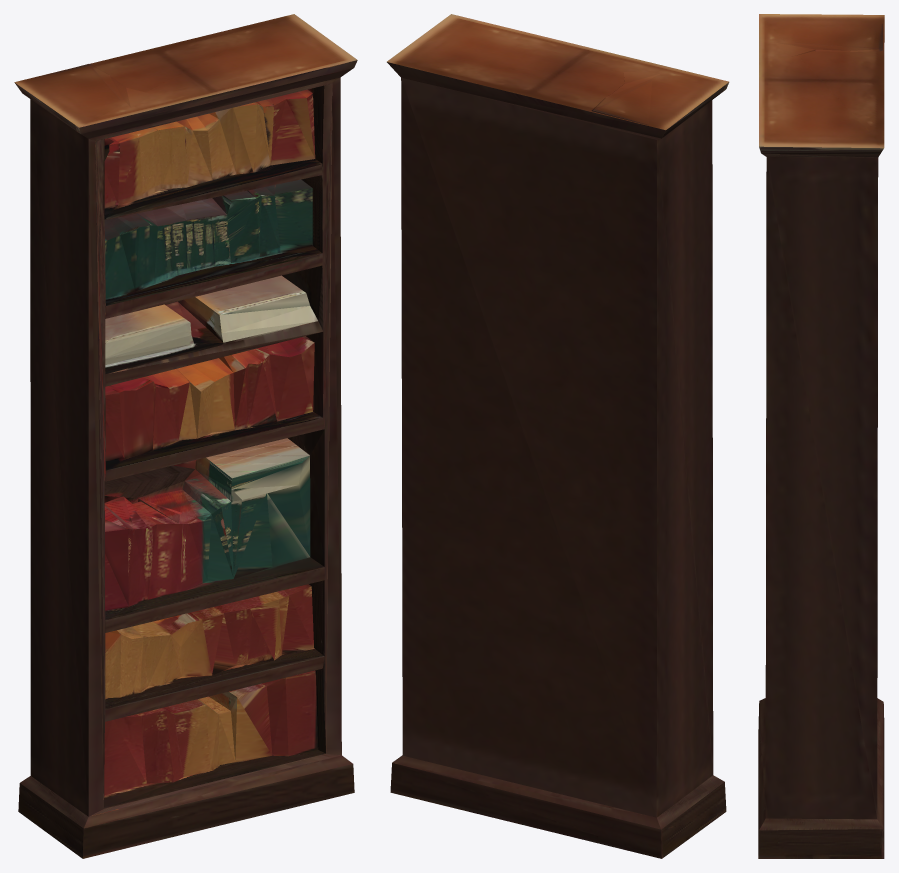
Rendered from Bookshelf_Library_Past.fbx.
The picture shows the model from 3 angles, left to right: view 1: azimuth 30°, elevation 25°; view 2: azimuth 150°, elevation 25°; view 3: azimuth 270°, elevation 25°; orthographic projection. The views are drawn at different scales.
Visible parts, largest first — view 1: Mesh_0; view 2: Mesh_0; view 3: Mesh_0.
Part boxes in pixels (bbox=[...]): Mesh_0: bbox=[14, 14, 357, 858]; Mesh_0: bbox=[387, 14, 729, 858]; Mesh_0: bbox=[758, 14, 884, 858].
Size of the model in its own units: 100 by 250 by 40.
Materials: 1 (1 with a texture image).
